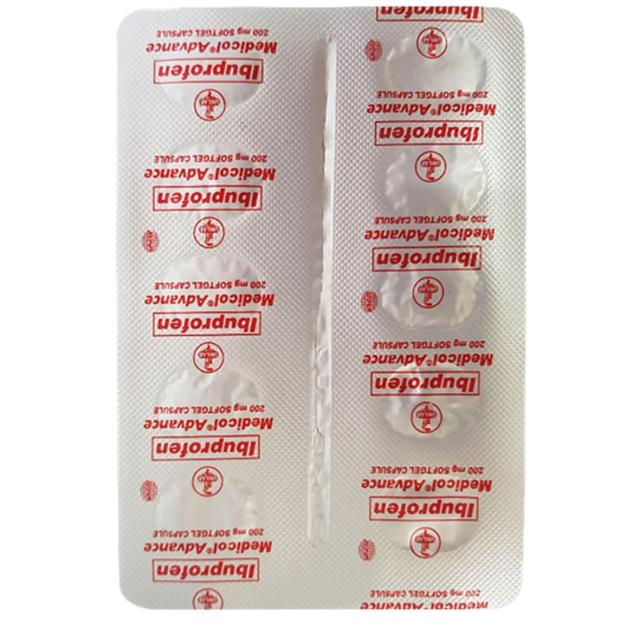blister: (111, 1, 532, 621)
